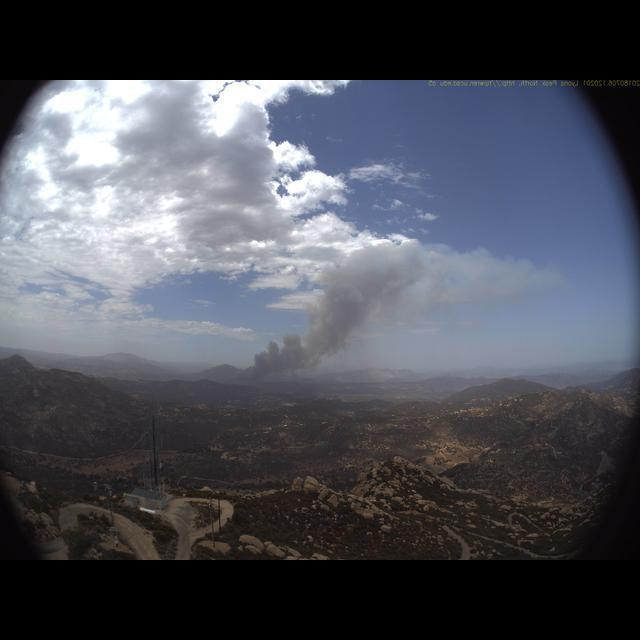Smoke: (222, 235, 501, 394)
